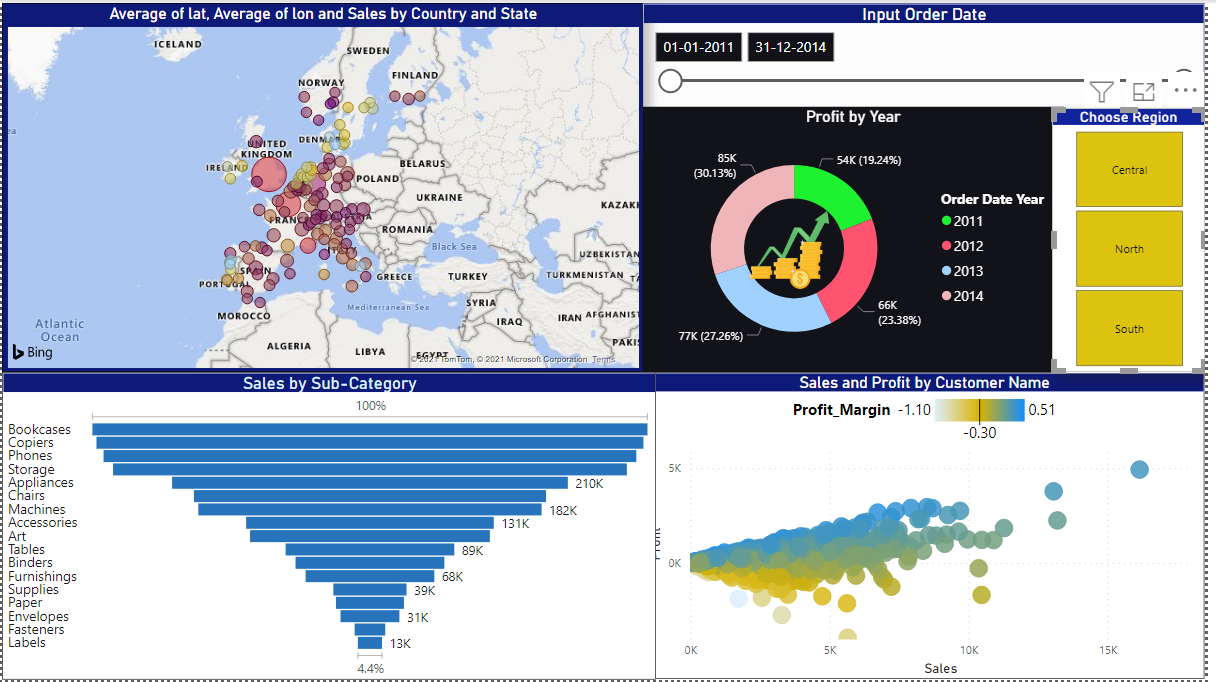

The page's visual inventory and layout, read from the dashboard file:
{"tool":"powerbi","page":{"name":"Page 1","canvas":[1280,720],"ordinal":2},"visuals":[{"type":"map","fields":{"Category":["ListOfOrders.Geography.Country","ListOfOrders.Geography.State","ListOfOrders.Geography.City"],"Y":["Avg(ListOfOrders.lat)"],"X":["Avg(ListOfOrders.lon)"],"Size":["Sum(OrderBreakdown.Sales)"]},"box":[0,0,681.7,392.7],"z":0},{"type":"scatterChart","fields":{"X":["Sum(OrderBreakdown.Sales)"],"Y":["Sum(OrderBreakdown.Profit)"],"Category":["ListOfOrders.Customer Name"]},"box":[681.9,392,598.1,326.6],"z":1000},{"type":"slicer","title":"Input Order Date","fields":{"Values":["ListOfOrders.Order Date"]},"box":[681.9,0,598.1,161.3],"z":2000},{"type":"slicer","title":"Choose Region","fields":{"Values":["ListOfOrders.Region"]},"box":[1117,111,163.3,281.7],"z":3000},{"type":"donutChart","fields":{"Y":["Sum(OrderBreakdown.Profit)"],"Category":["ListOfOrders.Order Date.Variation.Date Hierarchy.Year","ListOfOrders.Order Date.Variation.Date Hierarchy.Quarter","ListOfOrders.Order Date.Variation.Date Hierarchy.Month","ListOfOrders.Order Date.Variation.Date Hierarchy.Day"]},"box":[681.7,110.2,448.6,282.6],"z":4000},{"type":"funnel","fields":{"Category":["OrderBreakdown.Sub-Category"],"Y":["Sum(OrderBreakdown.Sales)"]},"box":[0,392.7,696.1,327.3],"z":5000},{"type":"image","box":[696.1,212.3,284.2,100.6],"z":5001}]}

Visuals, with their boxes in screenshot pixels (x1, y1, x2, y2), scaled from the page's 1280x720 canvas onto the 1216x682 screenshot:
map - ListOfOrders.Geography.Country x ListOfOrders.Geography.State: 0 0 648 372
scatterChart - Sum(OrderBreakdown.Sales) x Sum(OrderBreakdown.Profit): 648 371 1215 681
"Input Order Date" slicer: 648 0 1215 153
"Choose Region" slicer: 1061 105 1215 372
donutChart - Sum(OrderBreakdown.Profit) x ListOfOrders.Order Date.Variation.Date Hierarchy.Year: 648 104 1074 372
funnel - OrderBreakdown.Sub-Category x Sum(OrderBreakdown.Sales): 0 372 661 681
image: 661 201 931 296
